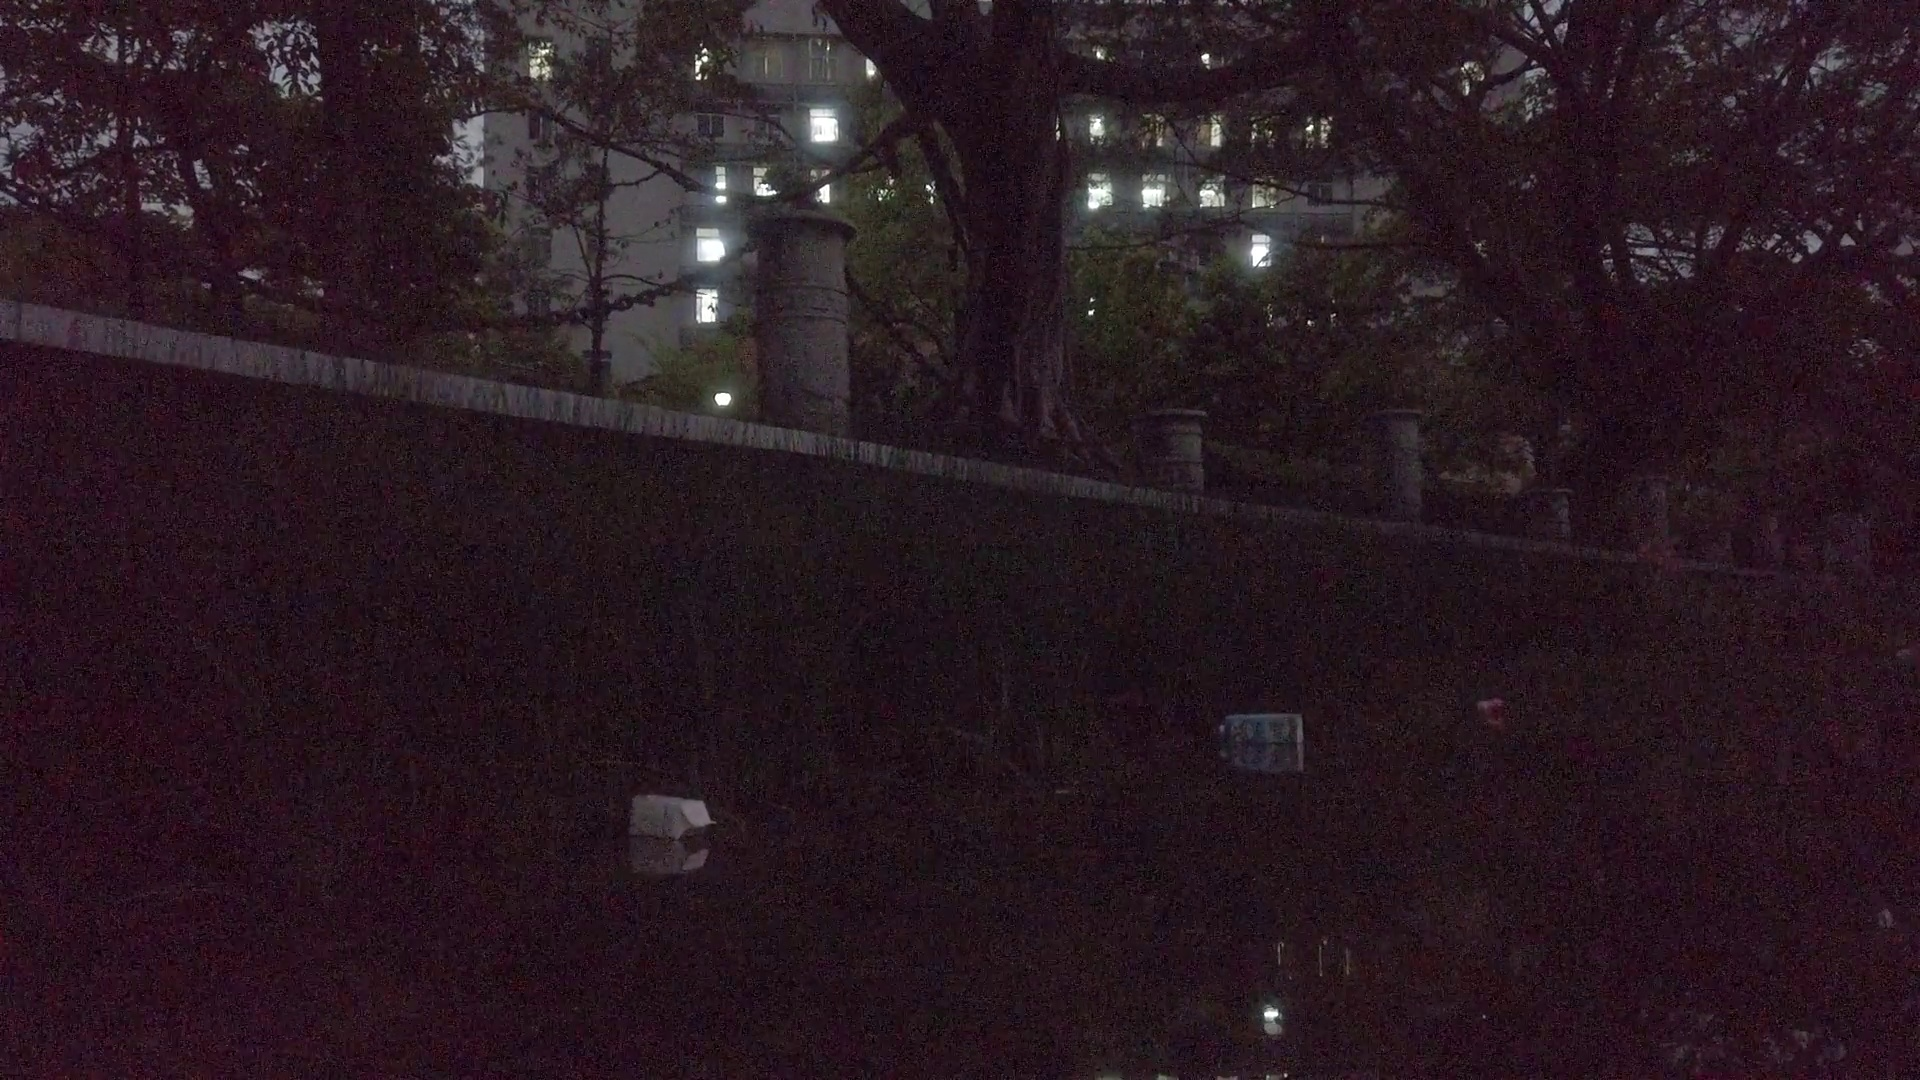bottle: (1894, 647, 1913, 674), (1476, 698, 1507, 712)
carton: (626, 791, 716, 837), (1218, 708, 1305, 744)
